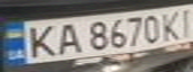0: (142, 11, 166, 44)
6: (106, 16, 130, 50)
7: (124, 14, 148, 47)
8: (84, 18, 109, 52)
A: (51, 20, 84, 55)
I: (175, 4, 193, 37)
K: (18, 21, 63, 59), (157, 8, 187, 41)
